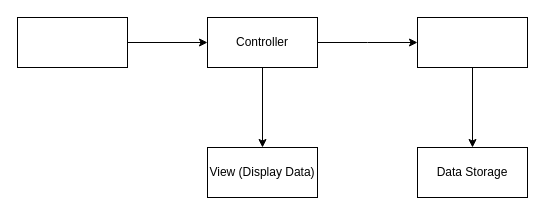
The diagram is 545 pixels wide and 215 high, and some of its shapes have lost their labels. The box of each missing label's shape, as (x1, y1, x2, y2) in pixels:
Model: (416, 16, 528, 68)
User (View Layer ): (16, 16, 128, 68)
